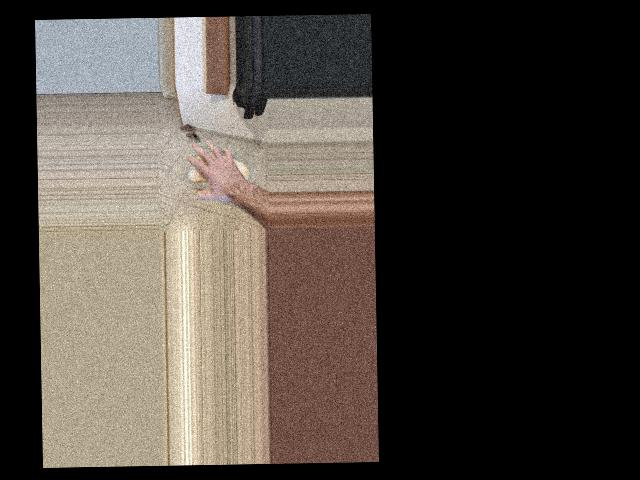cheese: (184, 140, 251, 206)
